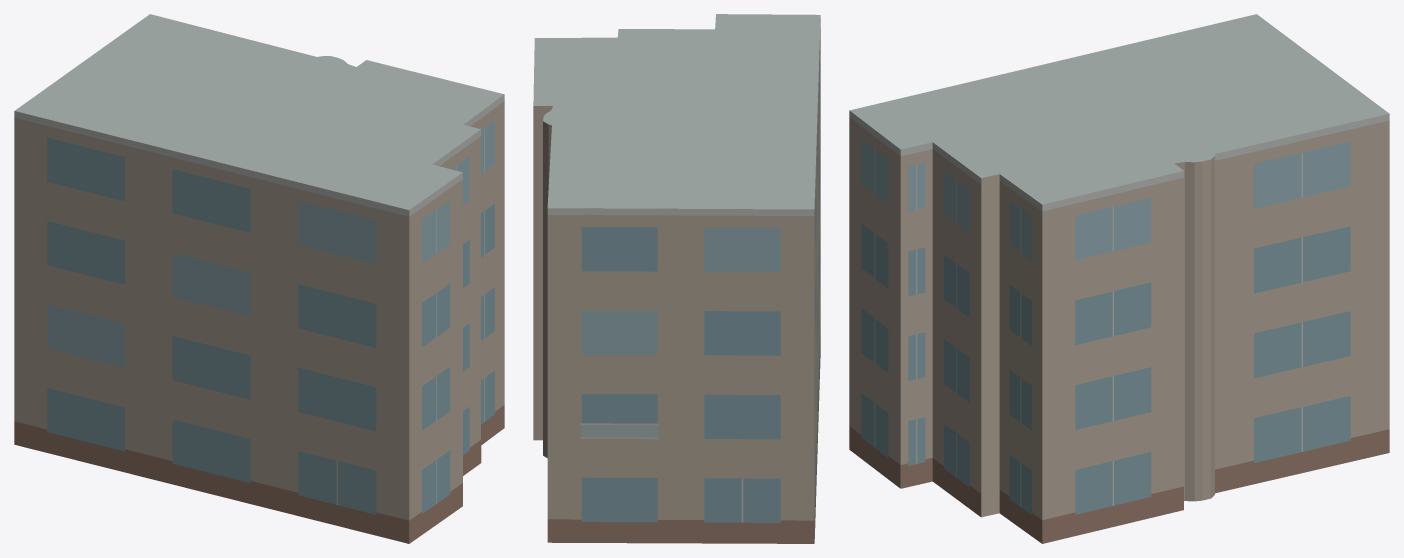
File: survey-upis-32604933.glb
The picture shows the model from 3 angles, left to right: view 1: azimuth 30°, elevation 25°; view 2: azimuth 150°, elevation 25°; view 3: azimuth 270°, elevation 25°; orthographic projection.
Parts seen in each view (by area): view 1: survey-upis-32604933.tmp; view 2: survey-upis-32604933.tmp; view 3: survey-upis-32604933.tmp.
Boxes of the visible parts, x1,y1,x2,y2 form: survey-upis-32604933.tmp: (14, 14, 504, 543); survey-upis-32604933.tmp: (533, 14, 820, 543); survey-upis-32604933.tmp: (849, 14, 1389, 543).
Size of the model in its own units: 14.72 by 12.2 by 17.62.
